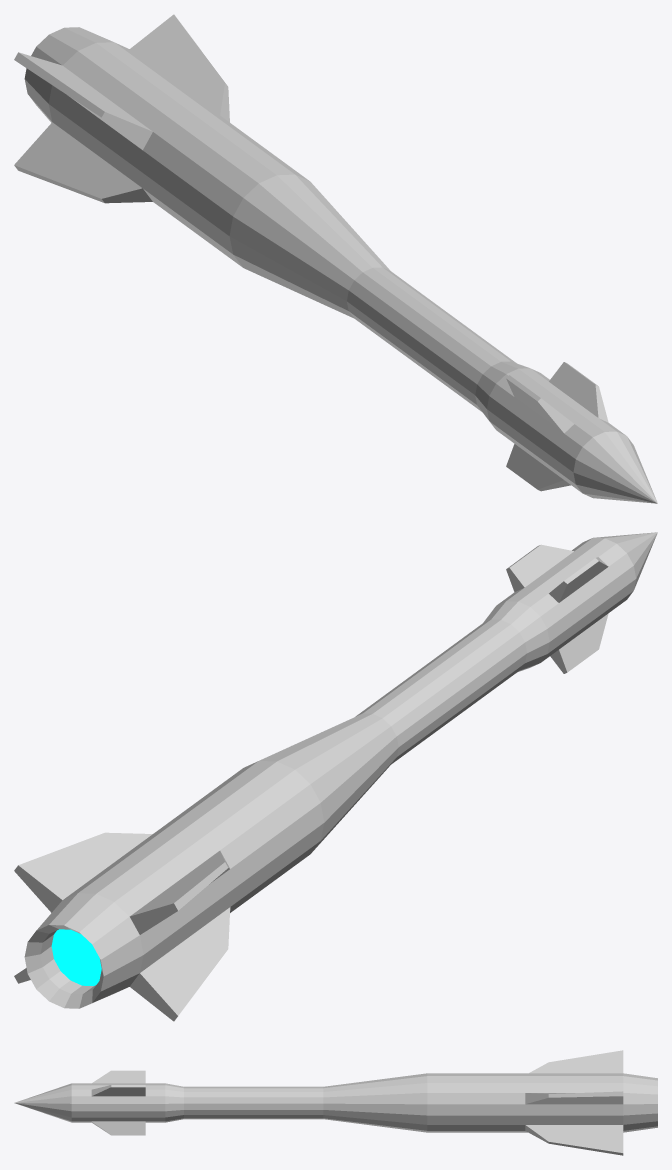
Rendered from missile.dae.
3 views of the same model, one above another, from view 1: azimuth 30°, elevation 25°; view 2: azimuth 150°, elevation 25°; view 3: azimuth 270°, elevation 25° (orthographic). The views are drawn at different scales.
Visible parts, largest first — view 1: missile; view 2: missile; view 3: missile.
Part boxes in pixels (<box>): missile: <box>14,14,657,503</box>; missile: <box>14,532,657,1021</box>; missile: <box>14,1050,657,1155</box>.
Bounding box in the file's own units: 0.2313 × 1.45 × 0.1595.
